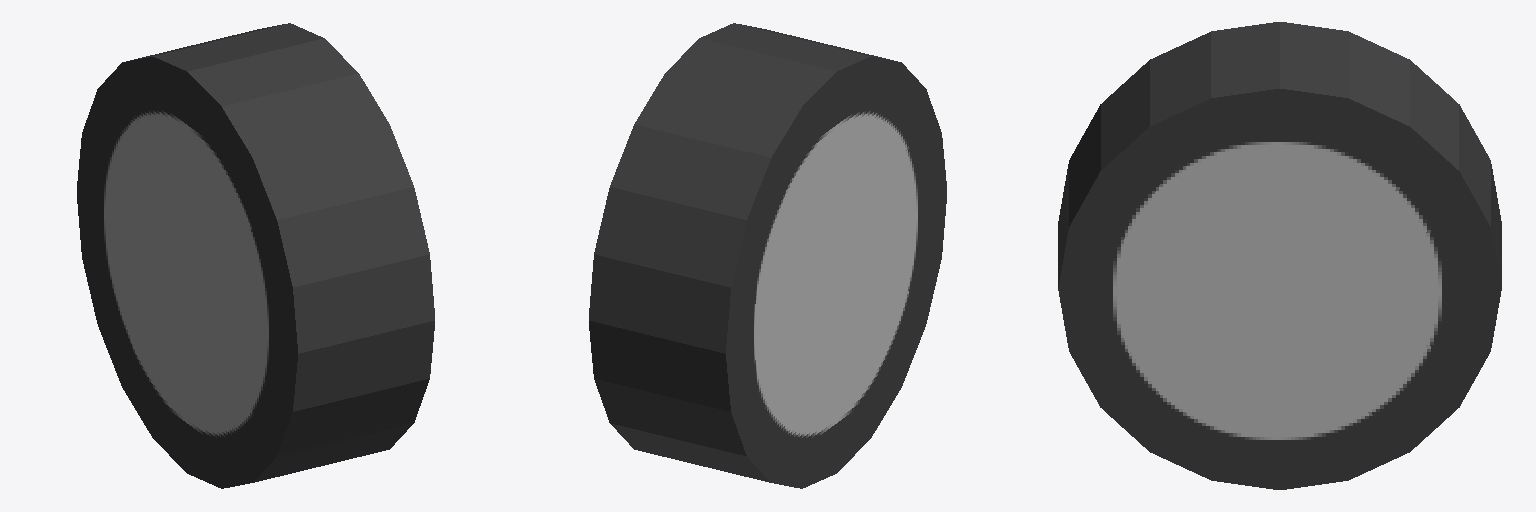
The picture shows the model from 3 angles: view 1: azimuth 30°, elevation 25°; view 2: azimuth 150°, elevation 25°; view 3: azimuth 270°, elevation 25°; orthographic projection.
Visible parts, largest first — view 1: pCylinder1; view 2: pCylinder1; view 3: pCylinder1.
Boxes of the visible parts, <box> form: pCylinder1: <box>77,23,434,488</box>; pCylinder1: <box>589,23,946,488</box>; pCylinder1: <box>1058,22,1501,489</box>.
Size of the model in its own units: 1 by 2.8 by 2.8.
1 materials, 1 textured.